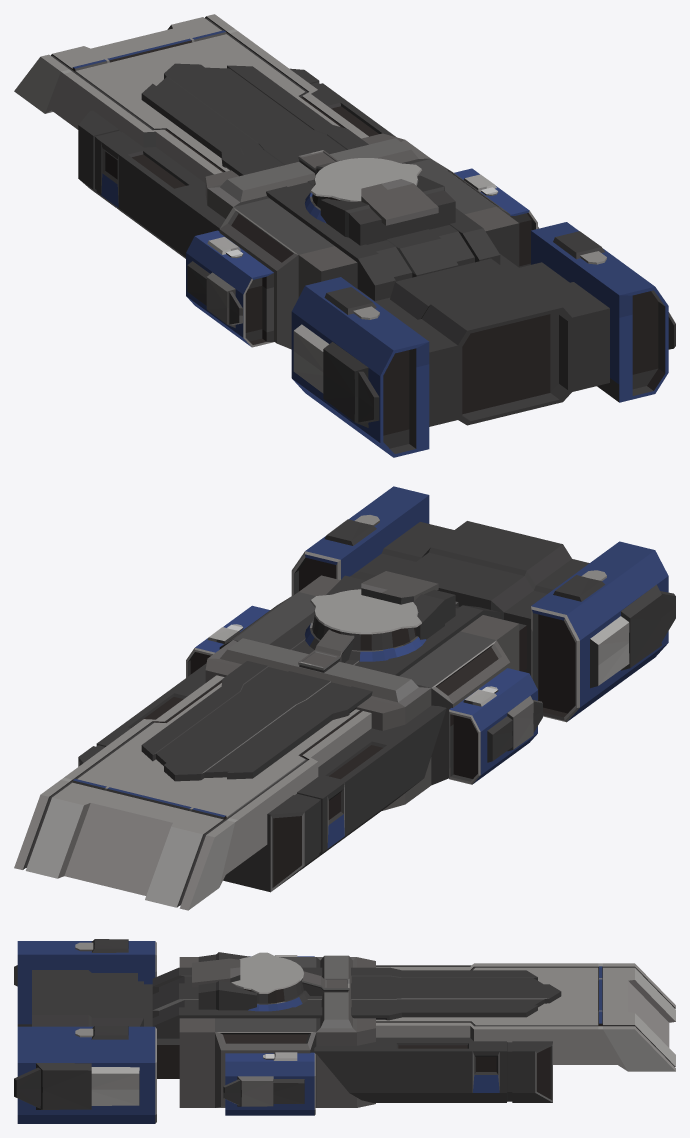
File: imperial.glb
3 views of the same model, one above another, from view 1: azimuth 30°, elevation 25°; view 2: azimuth 150°, elevation 25°; view 3: azimuth 270°, elevation 25° (orthographic). The views are drawn at different scales.
Bounding box in the file's own units: 3.86 × 1.65 × 9.27.
